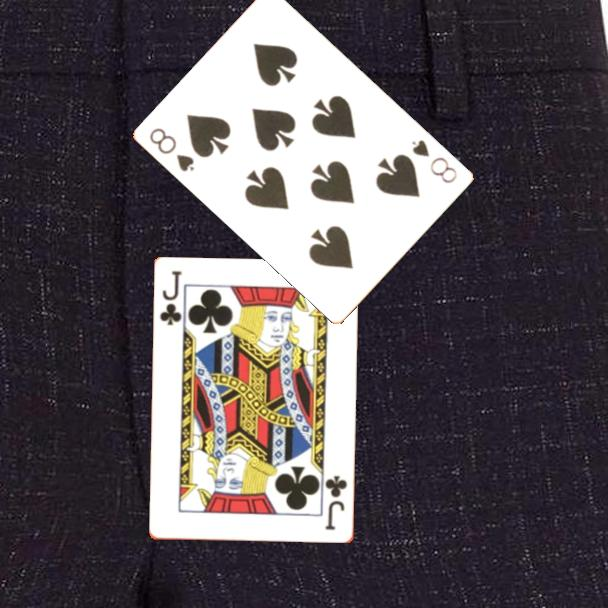c11: (322, 473, 350, 533), (157, 268, 185, 328)
s08: (146, 124, 197, 175), (409, 136, 460, 186)
